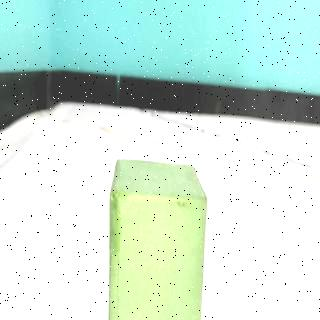greenbox: (107, 155, 210, 320)
